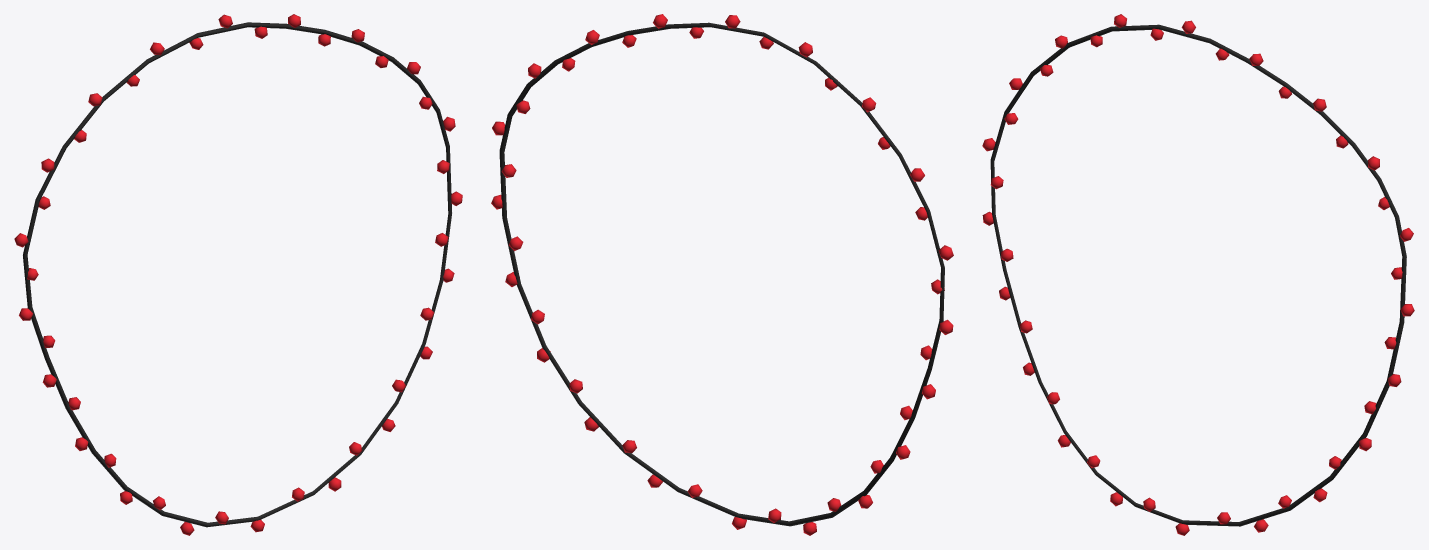
The model's file is SantaLights.fbx.
3 views of the same model, side by side, from view 1: azimuth 30°, elevation 25°; view 2: azimuth 150°, elevation 25°; view 3: azimuth 330°, elevation 25° (orthographic). The views are drawn at different scales.
Visible parts, largest first — view 1: SantaLights; view 2: SantaLights; view 3: SantaLights.
Boxes of the visible parts, <box> form: SantaLights: <box>14,14,462,535</box>; SantaLights: <box>491,14,953,535</box>; SantaLights: <box>982,14,1414,535</box>.
Bounding box in the file's own units: 4.07 × 4.45 × 0.4445.
